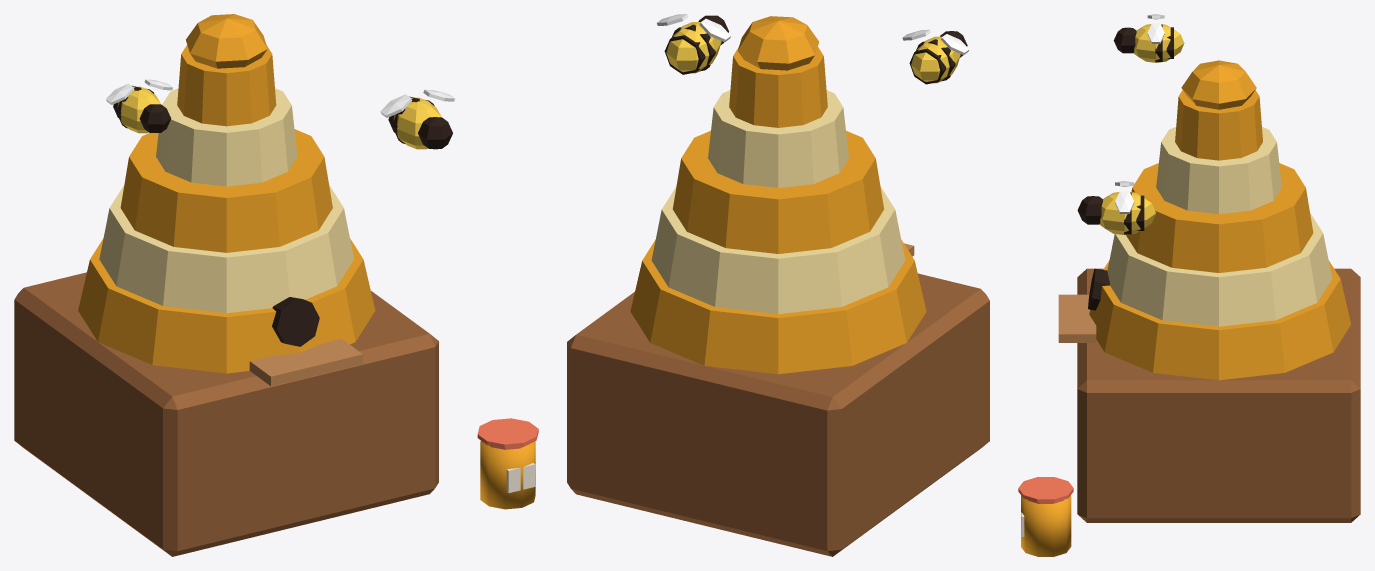
File: station_beehive.glb
3 views of the same model, side by side, from view 1: azimuth 30°, elevation 25°; view 2: azimuth 150°, elevation 25°; view 3: azimuth 270°, elevation 25° (orthographic). The views are drawn at different scales.
Parts seen in each view (by area): view 1: station_beehive; view 2: station_beehive; view 3: station_beehive.
Part boxes in pixels (<box>): station_beehive: <box>14,14,538,556</box>; station_beehive: <box>567,14,989,556</box>; station_beehive: <box>1018,14,1360,556</box>.
Bounding box in the file's own units: 1.19 × 1.41 × 1.09.
